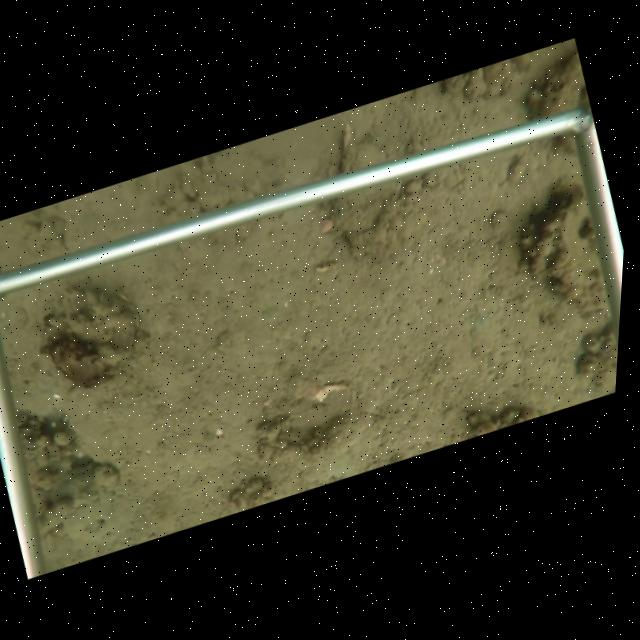Oyster-Indeterminate: (328, 177, 403, 233), (335, 122, 357, 171)
